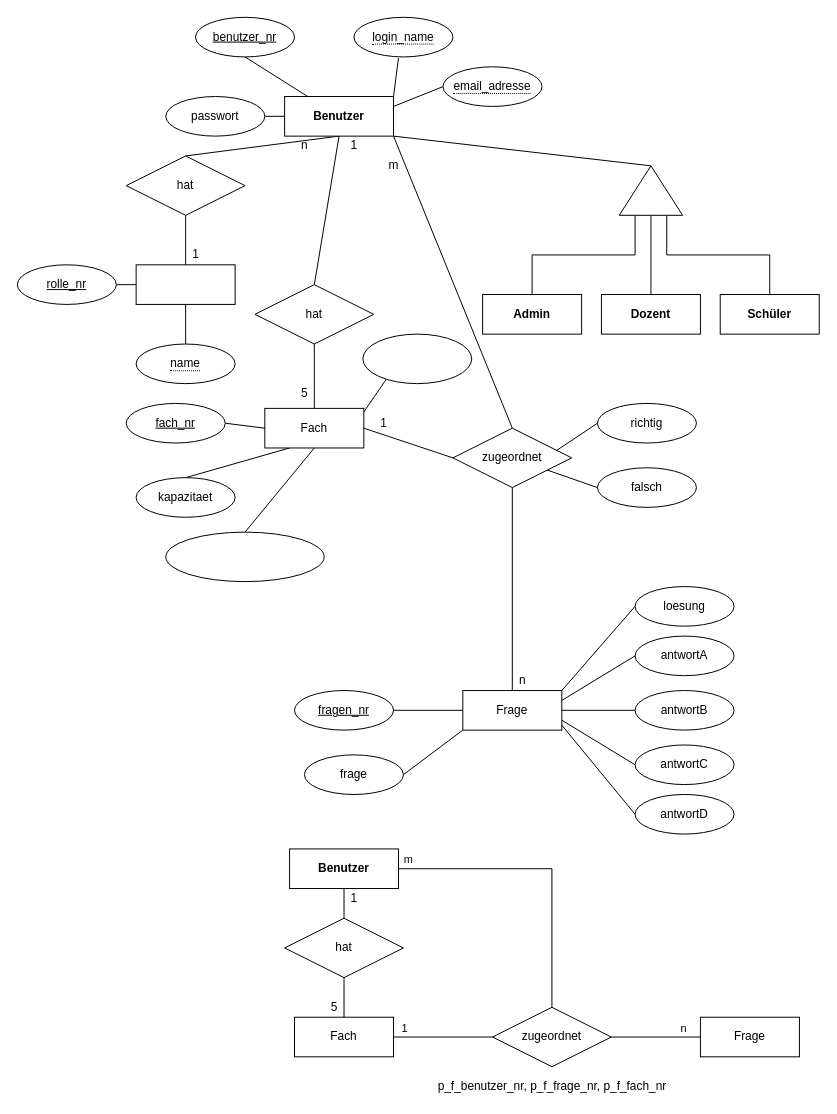
Some shapes in this 837 by 1114 pixel diagram are drawn without their labels. Here are the shapes that lost their labels. From the top down, the centre of each, then its label:
At (650,190): "is a".
At (185,284): "Rolle".
At (417,358): "anzahl wiederholungen".
At (244,556): "wiederholungszeitspanne".
